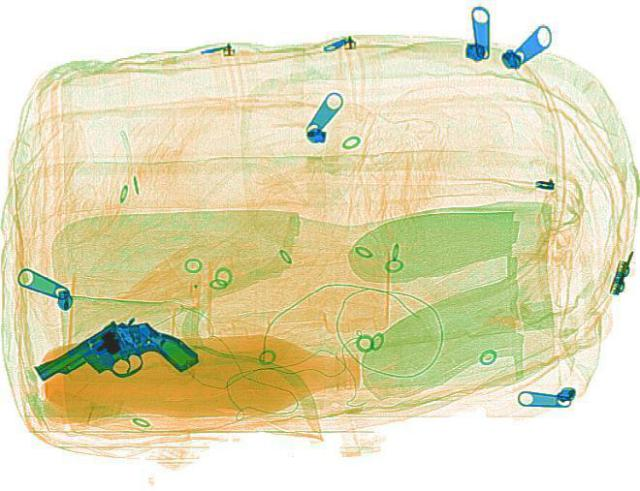Gun: (28, 303, 202, 421)
